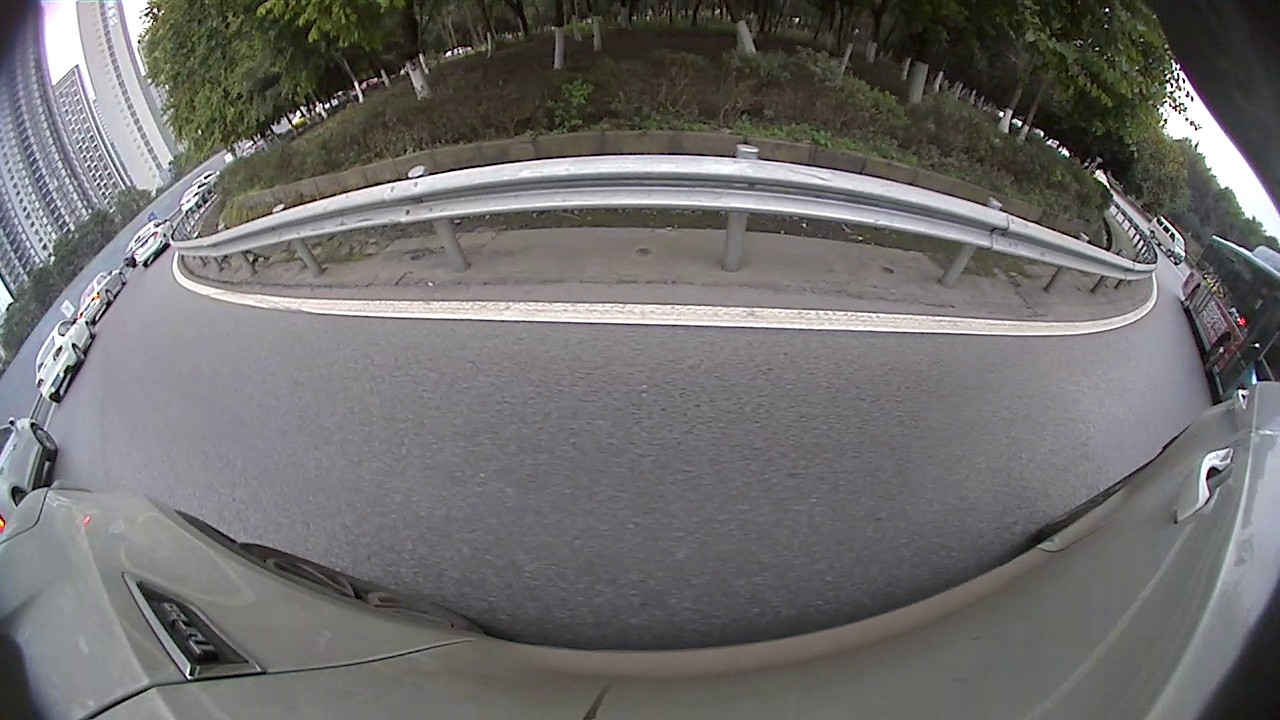bus: (1182, 228, 1279, 398)
car: (1, 407, 60, 532), (33, 313, 97, 404), (77, 263, 130, 320), (128, 214, 179, 271), (1143, 210, 1184, 263)
front: (1200, 336, 1234, 370), (29, 424, 59, 458), (84, 320, 98, 339)
rear: (1180, 285, 1199, 309), (73, 345, 88, 363), (105, 289, 117, 302)
